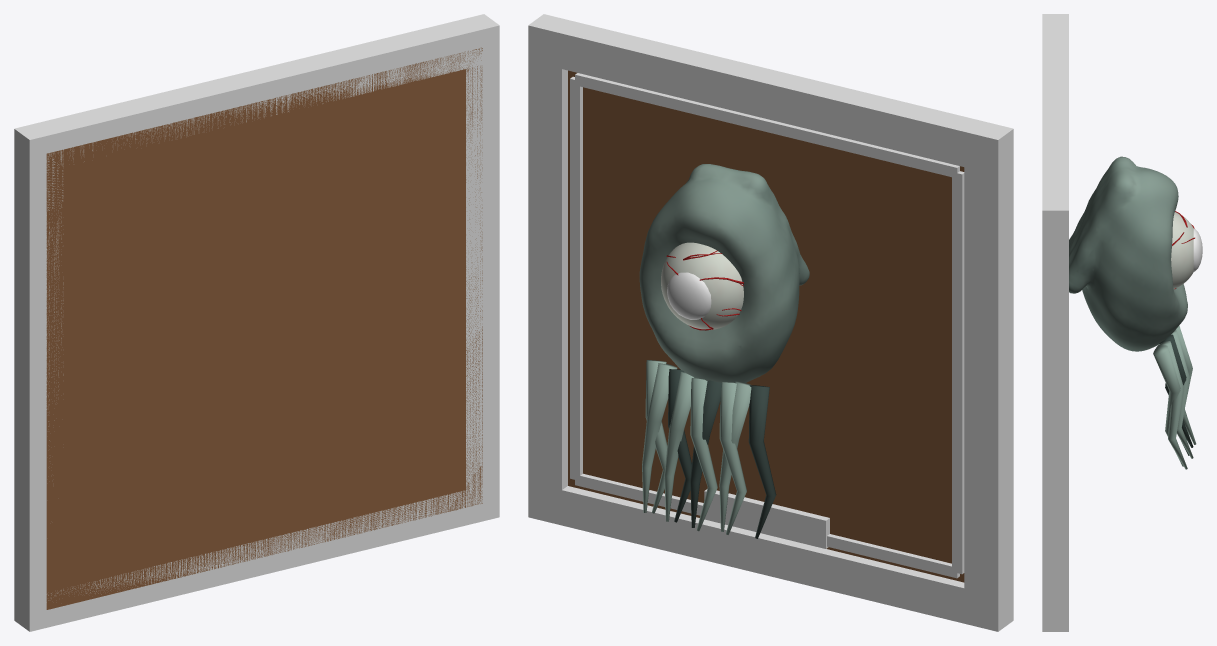
Rendered from moon_lord_trophy_v0.glb.
3 renders of one model, left to right at view 1: azimuth 30°, elevation 25°; view 2: azimuth 150°, elevation 25°; view 3: azimuth 270°, elevation 25°, orthographic. The views are drawn at different scales.
Visible parts, largest first — view 1: moon_lord_trophy_v0; view 2: moon_lord_trophy_v0; view 3: moon_lord_trophy_v0.
Boxes of the visible parts, x1,y1,x2,y2 form: moon_lord_trophy_v0: (14,14,499,631); moon_lord_trophy_v0: (528,14,1013,631); moon_lord_trophy_v0: (1042,14,1202,631).
Size of the model in its own units: 1.39 by 1.39 by 0.48.
